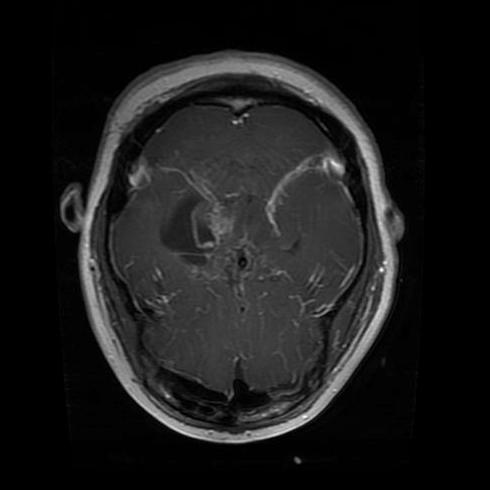Tumour-Glioma: (158, 183, 219, 274)
